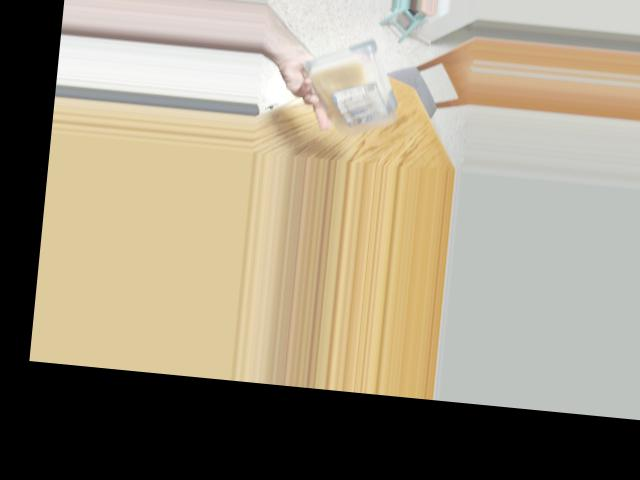cheese: (321, 36, 403, 133)
